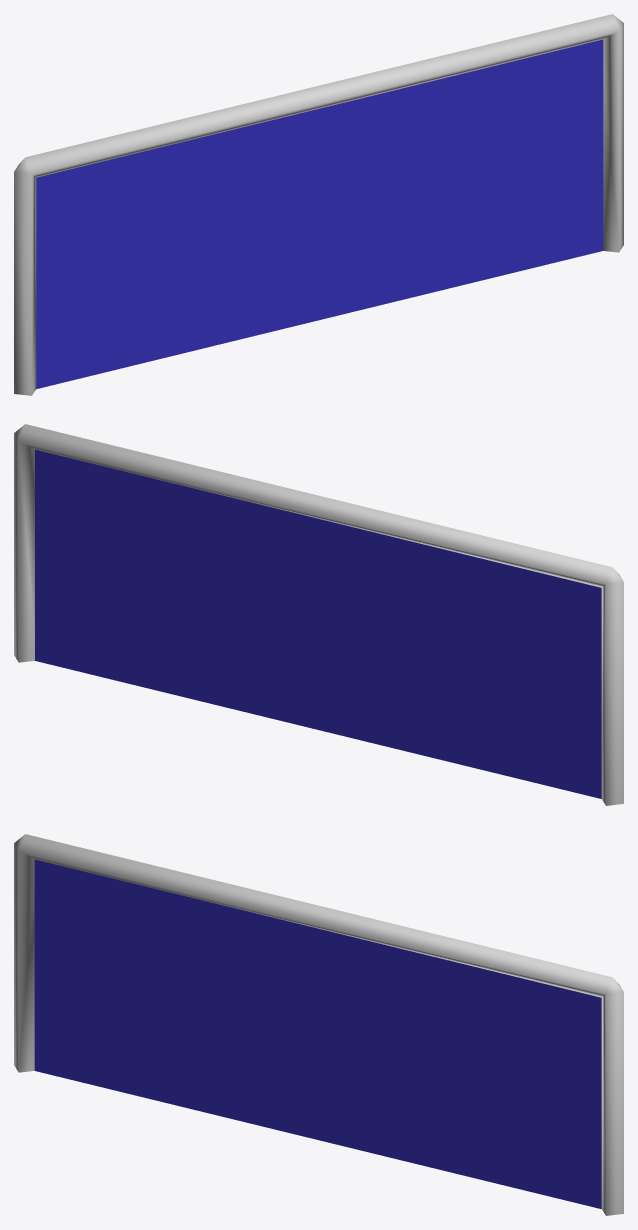
Rendered from SmallFence.fbx.
The picture shows the model from 3 angles, top to bottom: view 1: azimuth 30°, elevation 25°; view 2: azimuth 150°, elevation 25°; view 3: azimuth 330°, elevation 25°; orthographic projection.
Parts seen in each view (by area): view 1: SmallFence; view 2: SmallFence; view 3: SmallFence.
Boxes of the visible parts, x1,y1,x2,y2 form: SmallFence: (14, 14, 623, 395); SmallFence: (14, 424, 623, 805); SmallFence: (14, 834, 623, 1215).
Bounding box in the file's own units: 360 × 132 × 13.44.
